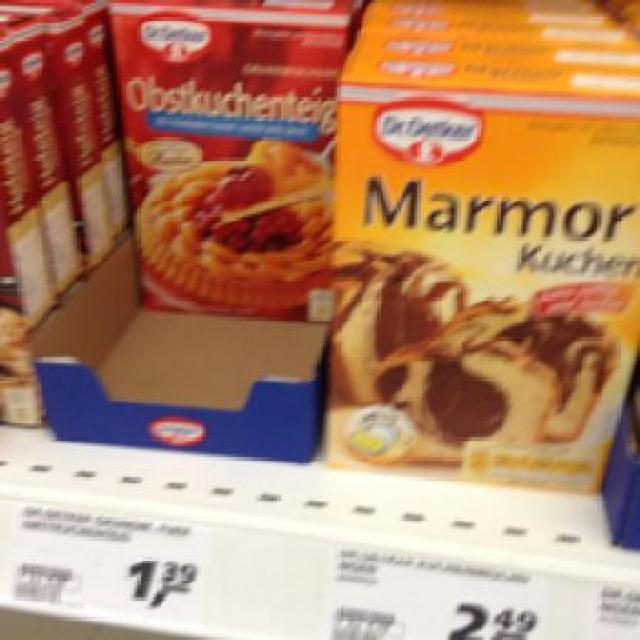Cake: (320, 42, 637, 492), (108, 0, 352, 326)
